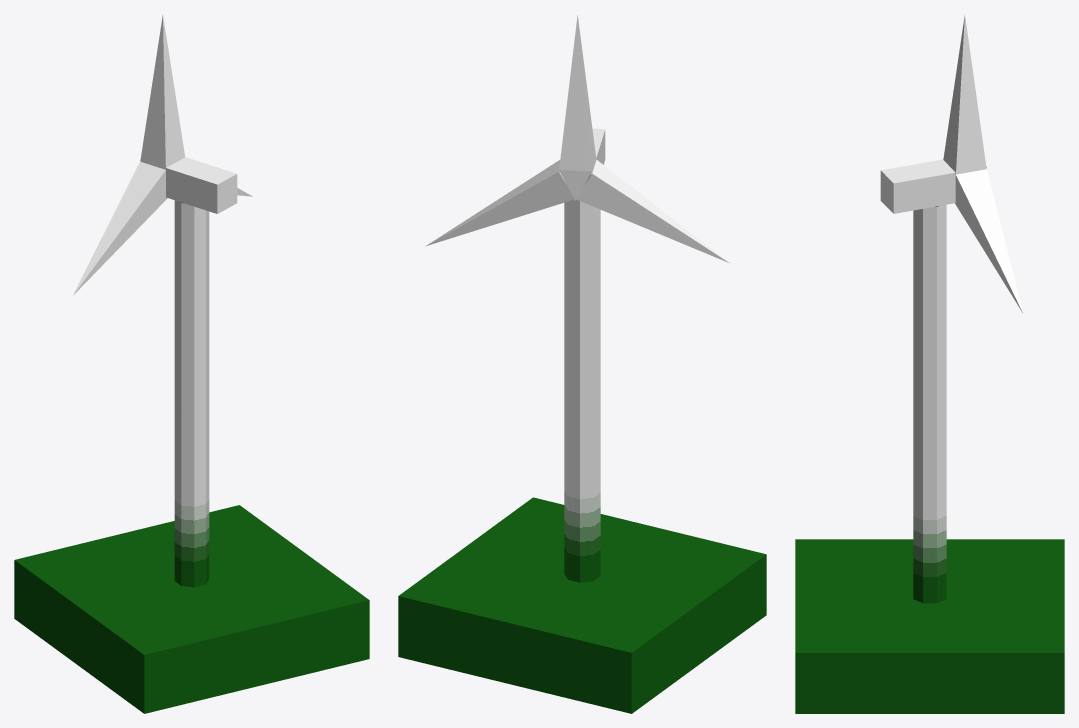
File: windturbine.obj
The picture shows the model from 3 angles, left to right: view 1: azimuth 30°, elevation 25°; view 2: azimuth 150°, elevation 25°; view 3: azimuth 270°, elevation 25°; orthographic projection. The views are drawn at different scales.
Parts seen in each view (by area): view 1: grass, cylinder, pyramid, cuboid; view 2: grass, cylinder, pyramid; view 3: grass, cylinder, pyramid, cuboid.
Boxes of the visible parts, bbox=[...] form: grass: bbox=[14, 505, 369, 713]; cylinder: bbox=[174, 200, 209, 587]; pyramid: bbox=[73, 15, 252, 295]; cuboid: bbox=[166, 157, 237, 213]; grass: bbox=[398, 497, 766, 713]; cylinder: bbox=[564, 199, 600, 582]; pyramid: bbox=[425, 15, 729, 263]; grass: bbox=[795, 539, 1064, 713]; cylinder: bbox=[913, 204, 946, 603]; pyramid: bbox=[943, 15, 1023, 313]; cuboid: bbox=[880, 159, 955, 213].
Bounding box in the file's own units: 0.2708 × 0.6531 × 0.25.
Materials: 1 (1 with a texture image).
